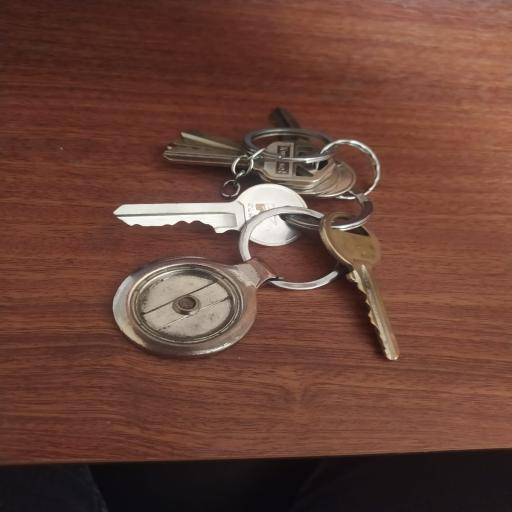Llaves: (100, 95, 411, 372)
